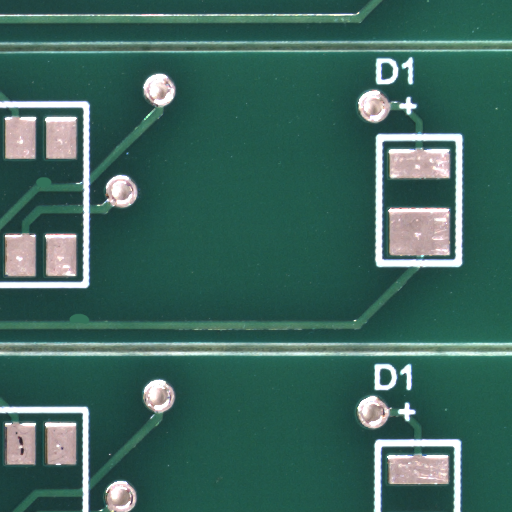Spur: (79, 319, 100, 334), (44, 180, 63, 189)
